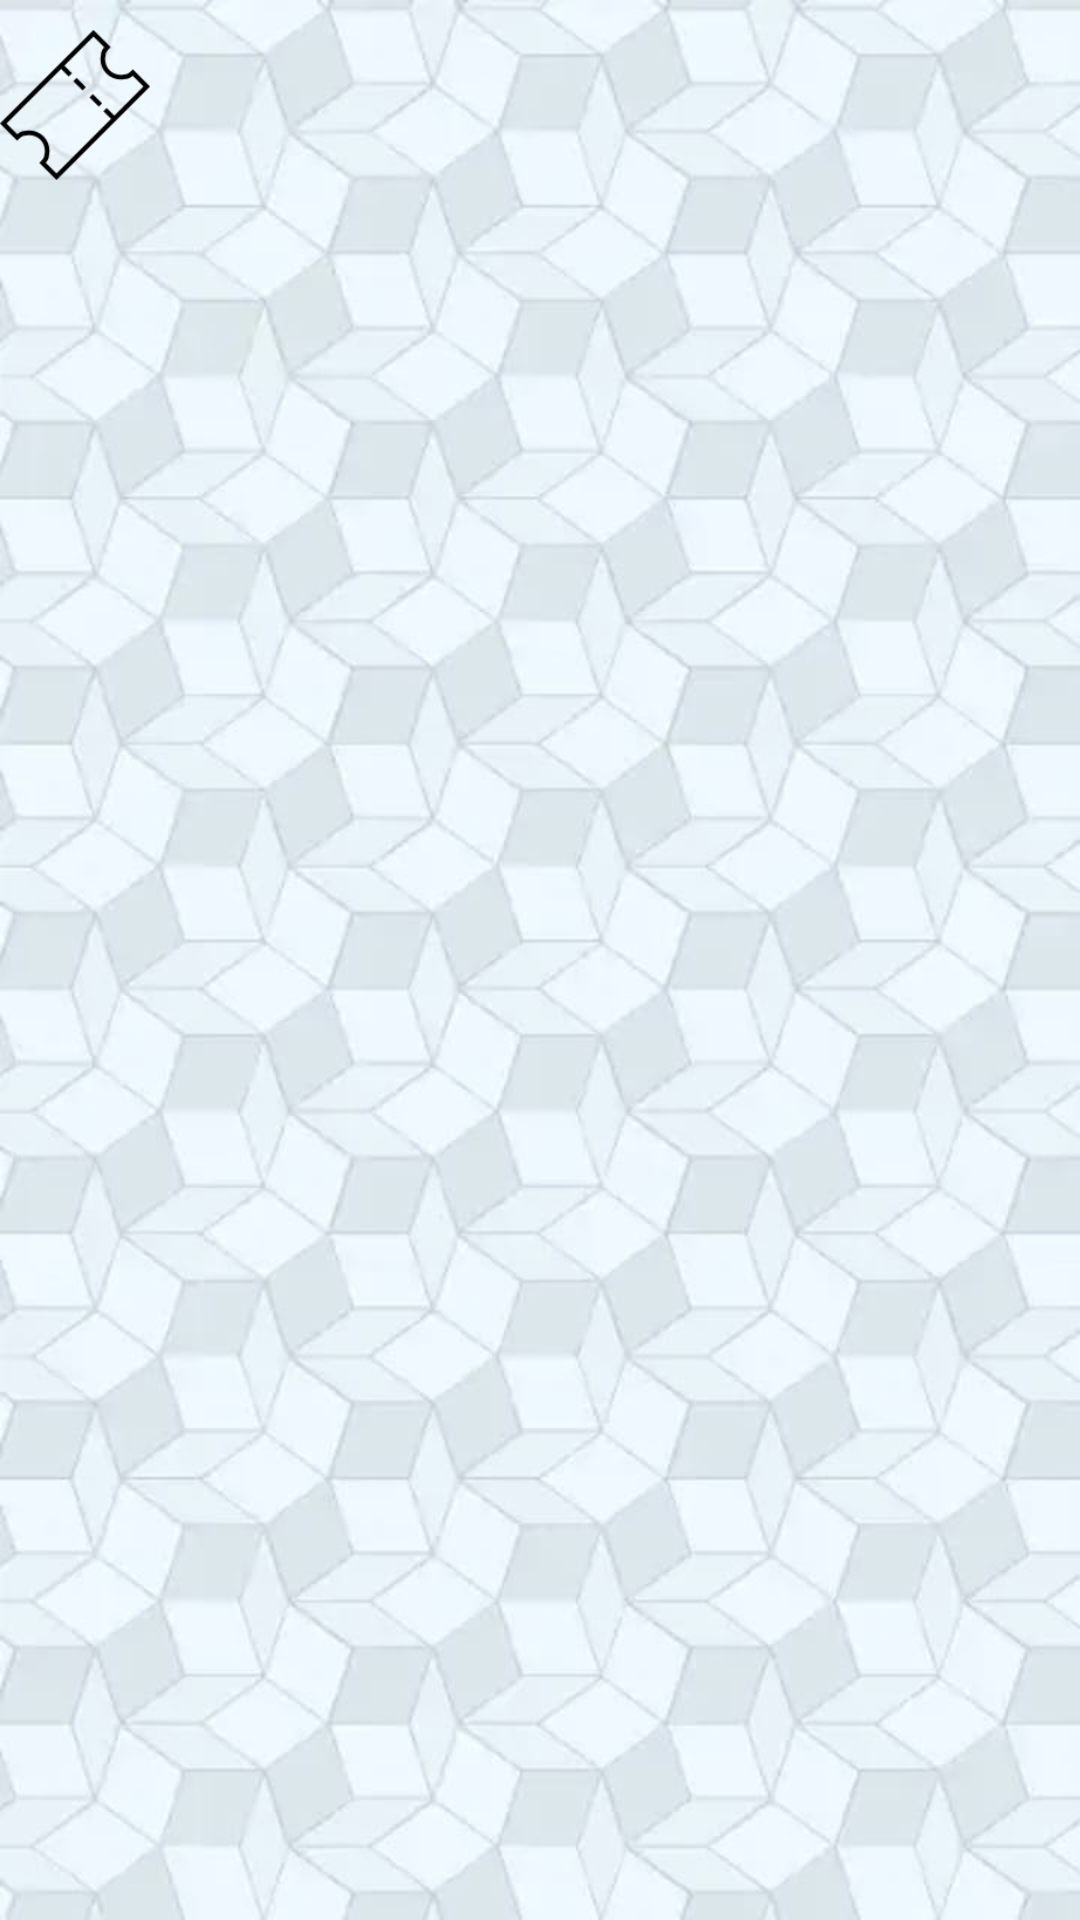

Icons on this 1080px x 1920px Android screen, each with the point to tap as (x,y):
ticket: (105,90)
